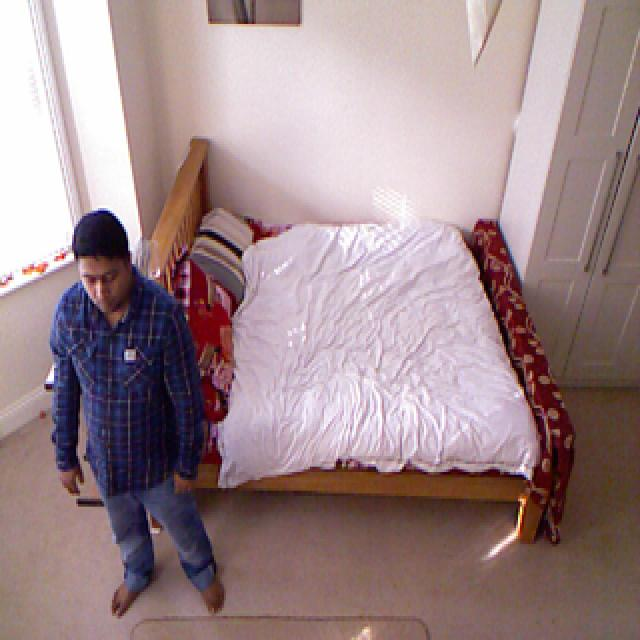standing: (48, 204, 222, 628)
